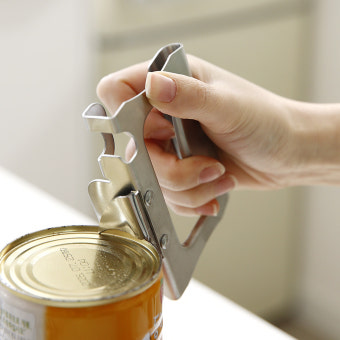paper: (0, 220, 168, 340)
